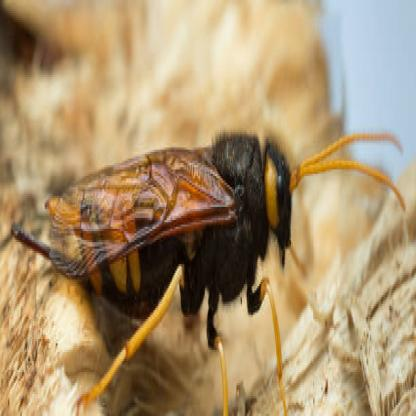sawfly: (6, 113, 406, 416)
